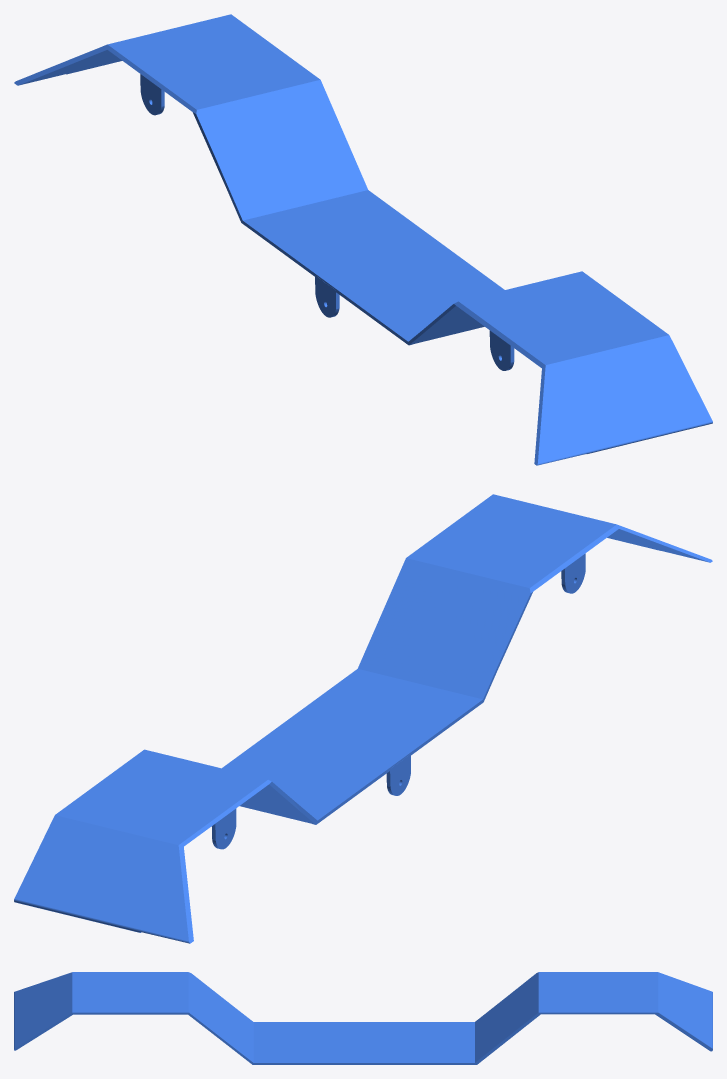
File: Fender_R.dae
3 views of the same model, one above another, from view 1: azimuth 30°, elevation 25°; view 2: azimuth 150°, elevation 25°; view 3: azimuth 270°, elevation 25° (orthographic). The views are drawn at different scales.
Visible parts, largest first — view 1: ID2; view 2: ID2; view 3: ID2.
Part boxes in pixels (x1=…): ID2: x1=14, y1=14, x2=712, y2=465; ID2: x1=14, y1=494, x2=712, y2=943; ID2: x1=14, y1=972, x2=712, y2=1064.
Bounding box in the file's own units: 0.0978 × 0.5023 × 0.0583.
